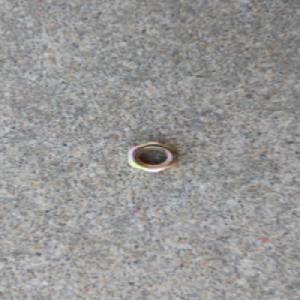Nut: (125, 141, 178, 173)
